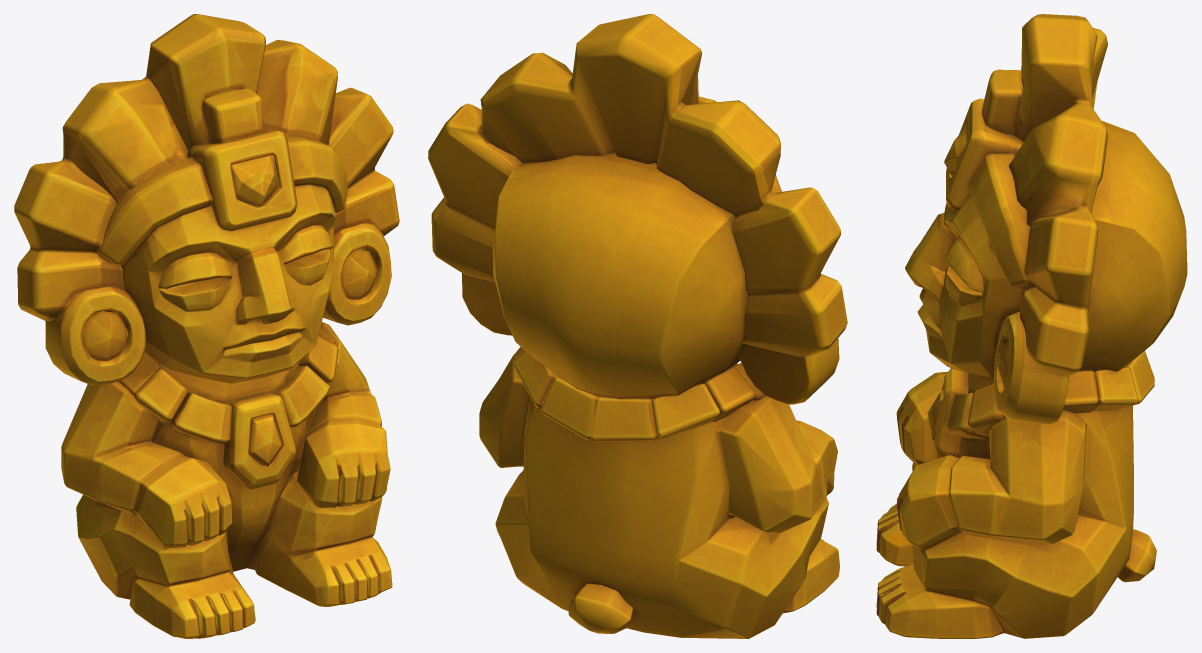
The model's file is GoldenIdol.glb.
The picture shows the model from 3 angles, left to right: view 1: azimuth 30°, elevation 25°; view 2: azimuth 150°, elevation 25°; view 3: azimuth 270°, elevation 25°; orthographic projection. The views are drawn at different scales.
Parts seen in each view (by area): view 1: tripo_node_db1e2630-6410-4d02-88fd-6210962ee9ae; view 2: tripo_node_db1e2630-6410-4d02-88fd-6210962ee9ae; view 3: tripo_node_db1e2630-6410-4d02-88fd-6210962ee9ae.
Boxes of the visible parts, bbox=[...] form: tripo_node_db1e2630-6410-4d02-88fd-6210962ee9ae: bbox=[14, 14, 399, 638]; tripo_node_db1e2630-6410-4d02-88fd-6210962ee9ae: bbox=[428, 14, 847, 638]; tripo_node_db1e2630-6410-4d02-88fd-6210962ee9ae: bbox=[876, 14, 1187, 638].
Size of the model in its own units: 0.7104 by 0.9995 by 0.4976.
Materials: 1 (1 with a texture image).
